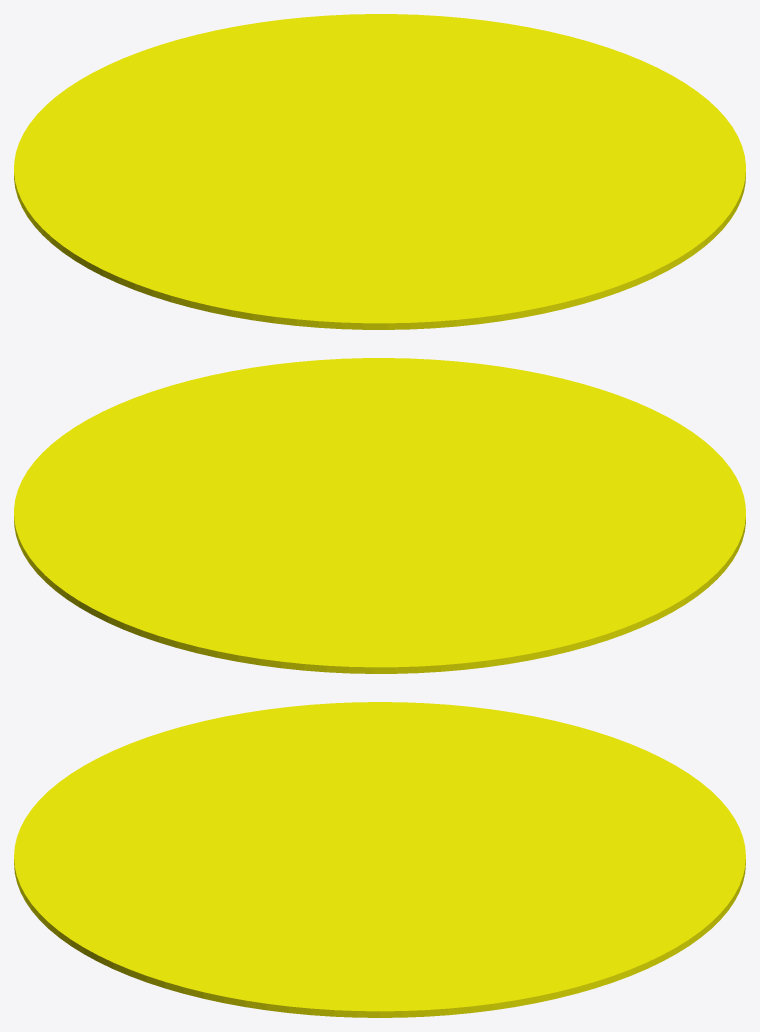
File: base_disc.obj
3 views of the same model, one above another, from view 1: azimuth 30°, elevation 25°; view 2: azimuth 150°, elevation 25°; view 3: azimuth 270°, elevation 25° (orthographic).
Parts seen in each view (by area): view 1: Cylinder; view 2: Cylinder; view 3: Cylinder.
Part boxes in pixels (x1,y1,x2,y2): Cylinder: [14, 14, 745, 329]; Cylinder: [14, 358, 745, 673]; Cylinder: [14, 702, 745, 1017].
Bounding box in the file's own units: 20 × 0.2 × 20.
1 material, 1 textured.
